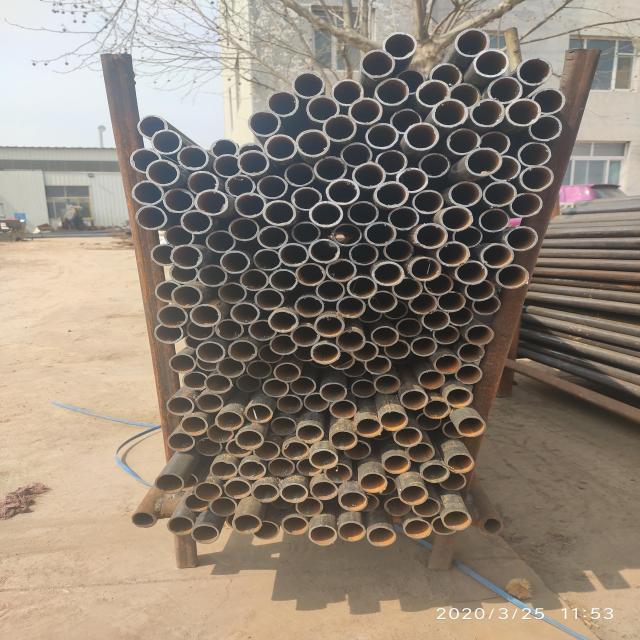pipe: (356, 48, 398, 79), (411, 221, 453, 252), (443, 128, 485, 158), (374, 180, 416, 210), (469, 96, 507, 129), (328, 77, 369, 107), (430, 98, 469, 129), (190, 188, 233, 216), (516, 58, 556, 88), (452, 26, 487, 60), (485, 76, 526, 105), (519, 162, 555, 195), (159, 188, 201, 216), (477, 242, 519, 270), (128, 180, 168, 209), (345, 97, 385, 126), (517, 140, 558, 168), (290, 70, 328, 100), (373, 77, 411, 107), (466, 148, 504, 178), (529, 86, 569, 114), (482, 181, 522, 209), (144, 160, 187, 186), (348, 164, 391, 190), (472, 47, 510, 76), (373, 149, 411, 178), (130, 205, 172, 231), (380, 32, 420, 59), (292, 129, 332, 156), (336, 141, 376, 168), (236, 149, 274, 177), (528, 114, 566, 142), (448, 180, 486, 208), (345, 198, 383, 226), (312, 158, 356, 182), (258, 202, 302, 226), (247, 110, 286, 137), (363, 221, 402, 248), (176, 210, 216, 236), (505, 98, 542, 126), (262, 89, 300, 116), (511, 193, 549, 220), (396, 166, 434, 193), (148, 130, 187, 156), (362, 122, 398, 150), (308, 200, 344, 228), (386, 205, 426, 230), (417, 152, 454, 179), (405, 124, 443, 150), (496, 262, 531, 290), (174, 146, 212, 171), (231, 192, 269, 217), (324, 179, 362, 204), (325, 115, 360, 142), (210, 154, 246, 180), (304, 96, 340, 122), (387, 108, 423, 134), (408, 256, 444, 282), (249, 246, 285, 272), (307, 238, 343, 264), (410, 190, 448, 214), (438, 206, 476, 230), (428, 63, 463, 89), (454, 260, 489, 286), (224, 217, 260, 242), (312, 314, 348, 339), (450, 81, 483, 108), (323, 258, 360, 282), (254, 173, 288, 199), (438, 240, 472, 266), (282, 164, 320, 187), (168, 244, 204, 268), (204, 230, 240, 254), (372, 264, 408, 288), (292, 262, 328, 286), (287, 184, 320, 210), (478, 207, 511, 233), (334, 294, 367, 320), (254, 226, 292, 248), (147, 324, 185, 346), (348, 240, 380, 266), (279, 480, 311, 506), (276, 245, 312, 268), (134, 114, 168, 138), (224, 174, 258, 198), (146, 244, 180, 268), (156, 306, 190, 330), (506, 226, 540, 250), (442, 384, 476, 408), (308, 342, 342, 366), (213, 283, 250, 305), (494, 154, 522, 183), (346, 272, 376, 299), (217, 250, 252, 273), (394, 68, 426, 93), (378, 408, 410, 433), (184, 172, 220, 194), (408, 292, 441, 316), (194, 340, 227, 364), (245, 318, 278, 342), (290, 326, 326, 348), (128, 150, 162, 173), (462, 279, 496, 302), (290, 222, 324, 245), (360, 470, 390, 496), (172, 285, 204, 309), (332, 222, 364, 246), (392, 278, 424, 302), (366, 524, 398, 548), (194, 268, 232, 288), (465, 324, 498, 347), (437, 289, 467, 314), (208, 138, 242, 160), (452, 364, 486, 386), (252, 287, 286, 309), (201, 373, 235, 395), (402, 518, 436, 540), (267, 268, 298, 292), (454, 225, 486, 248), (227, 339, 259, 362), (334, 329, 366, 352), (212, 320, 247, 341), (478, 512, 504, 540), (420, 309, 453, 331), (350, 416, 383, 438), (160, 226, 196, 246), (480, 132, 510, 156), (383, 238, 413, 262), (445, 450, 475, 474), (398, 481, 428, 505), (233, 429, 267, 450), (267, 310, 298, 333), (416, 368, 448, 390), (370, 326, 402, 348), (227, 302, 259, 324), (457, 416, 489, 438), (294, 424, 326, 446), (190, 524, 222, 546), (292, 455, 324, 477), (380, 452, 412, 474), (446, 304, 475, 328), (328, 428, 358, 451), (308, 448, 338, 471), (392, 425, 422, 448), (322, 462, 352, 485), (444, 509, 474, 532), (316, 280, 347, 302), (232, 513, 263, 535), (307, 525, 338, 547), (188, 306, 222, 326), (258, 378, 292, 398), (250, 483, 284, 503), (432, 352, 460, 376), (424, 460, 452, 484), (240, 268, 269, 291), (295, 295, 324, 318), (424, 274, 454, 296), (408, 334, 438, 356), (213, 358, 246, 378), (317, 382, 350, 402), (327, 398, 357, 420), (192, 438, 225, 458), (250, 519, 280, 541), (429, 514, 459, 536), (294, 496, 324, 518), (280, 514, 310, 536), (336, 521, 366, 543), (165, 264, 201, 282), (474, 296, 506, 316), (456, 343, 488, 363), (274, 394, 306, 414), (128, 510, 160, 530), (236, 460, 268, 480), (307, 480, 339, 500), (273, 362, 303, 383), (214, 411, 244, 432), (164, 433, 197, 452), (395, 316, 422, 339), (242, 402, 273, 422), (279, 440, 310, 460), (153, 474, 184, 494), (368, 292, 396, 314), (398, 388, 426, 410), (224, 436, 252, 458), (222, 478, 251, 499), (432, 326, 462, 346), (184, 321, 214, 341), (383, 340, 413, 360), (167, 354, 197, 374), (372, 374, 402, 394), (242, 360, 272, 380), (178, 416, 208, 436), (166, 516, 196, 536), (182, 494, 212, 514), (192, 482, 222, 502), (264, 457, 294, 477), (338, 491, 368, 511), (164, 397, 197, 415), (153, 281, 181, 302), (180, 371, 208, 392), (234, 373, 262, 394), (384, 497, 412, 518), (195, 393, 224, 413), (252, 441, 281, 461), (424, 399, 450, 421), (405, 443, 435, 462), (351, 342, 379, 362), (302, 392, 330, 412), (439, 472, 467, 492), (209, 460, 237, 480), (383, 300, 408, 322), (415, 411, 441, 432), (363, 356, 393, 374), (254, 345, 284, 363), (344, 440, 371, 460), (208, 498, 238, 516), (288, 377, 316, 396), (350, 378, 375, 399), (328, 352, 356, 370), (270, 336, 298, 354), (414, 499, 442, 517), (270, 419, 298, 436), (442, 420, 465, 440), (342, 360, 368, 377), (290, 346, 316, 363), (194, 356, 218, 374), (360, 492, 380, 513), (378, 476, 398, 496), (179, 334, 202, 351)
